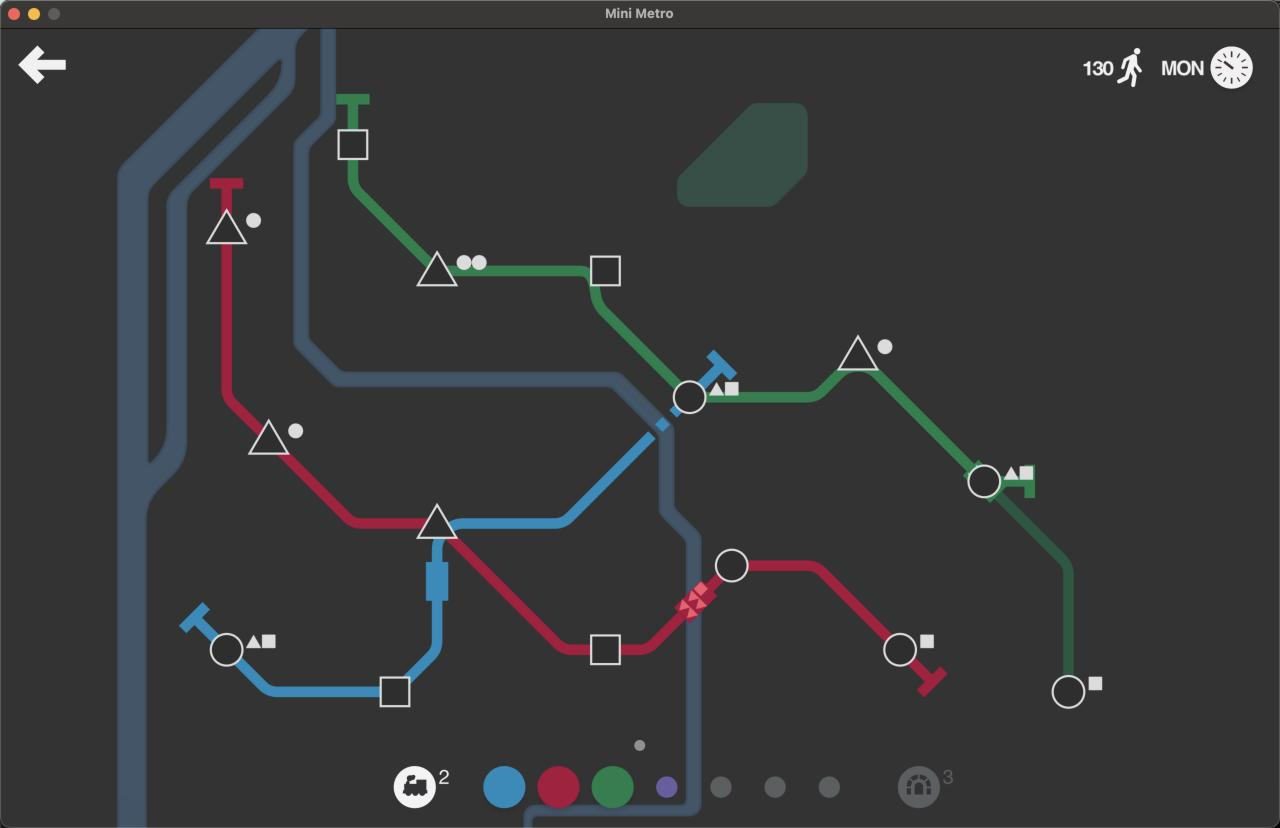CIRCLE: (966, 463, 1002, 501), (671, 378, 707, 416), (714, 547, 749, 583), (1051, 674, 1086, 710), (882, 631, 917, 667), (210, 632, 244, 667)
SQUARE: (589, 633, 622, 667), (379, 675, 412, 709), (337, 128, 370, 161), (589, 255, 623, 287)
TRIANGLE: (415, 502, 460, 541), (415, 249, 460, 288), (837, 333, 881, 372), (205, 208, 249, 247), (248, 417, 290, 456)
